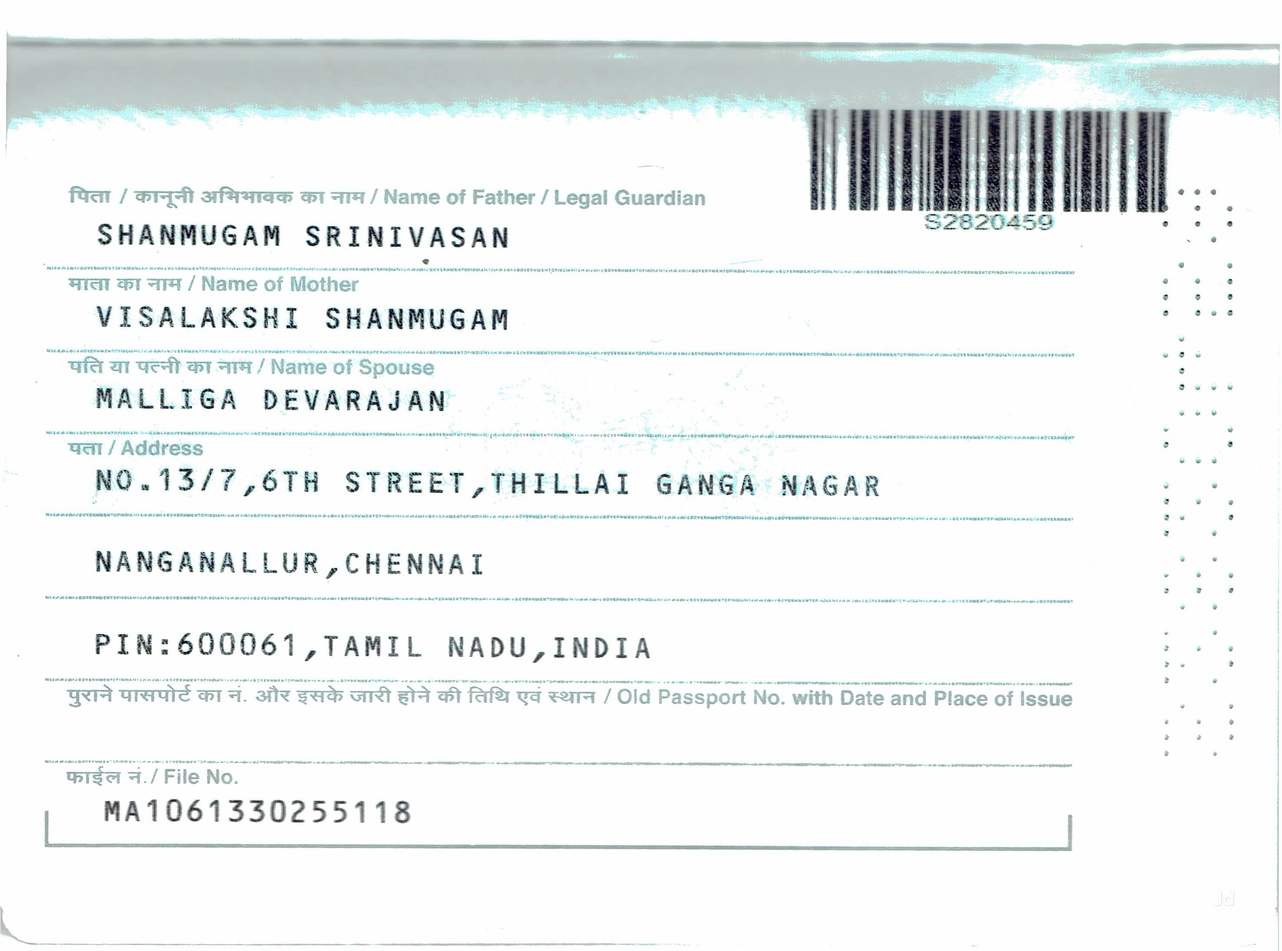File_no: (87, 794, 420, 839)
address: (77, 458, 884, 674)
father_name: (80, 210, 523, 257)
mother_name: (80, 289, 535, 344)
passport_no: (917, 201, 1067, 256)
spouse_name: (80, 373, 460, 421)
